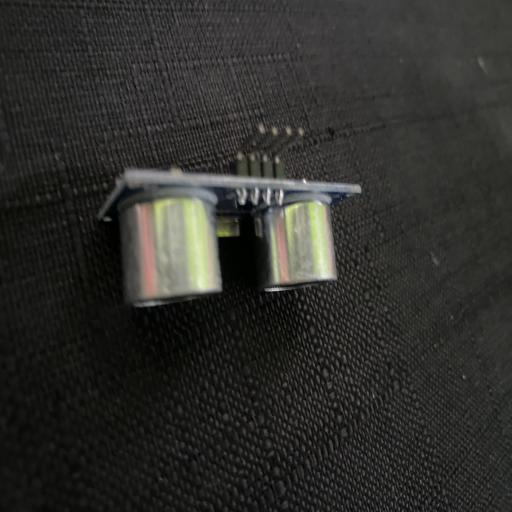Ultrasonic Sensor: (99, 122, 363, 310)
